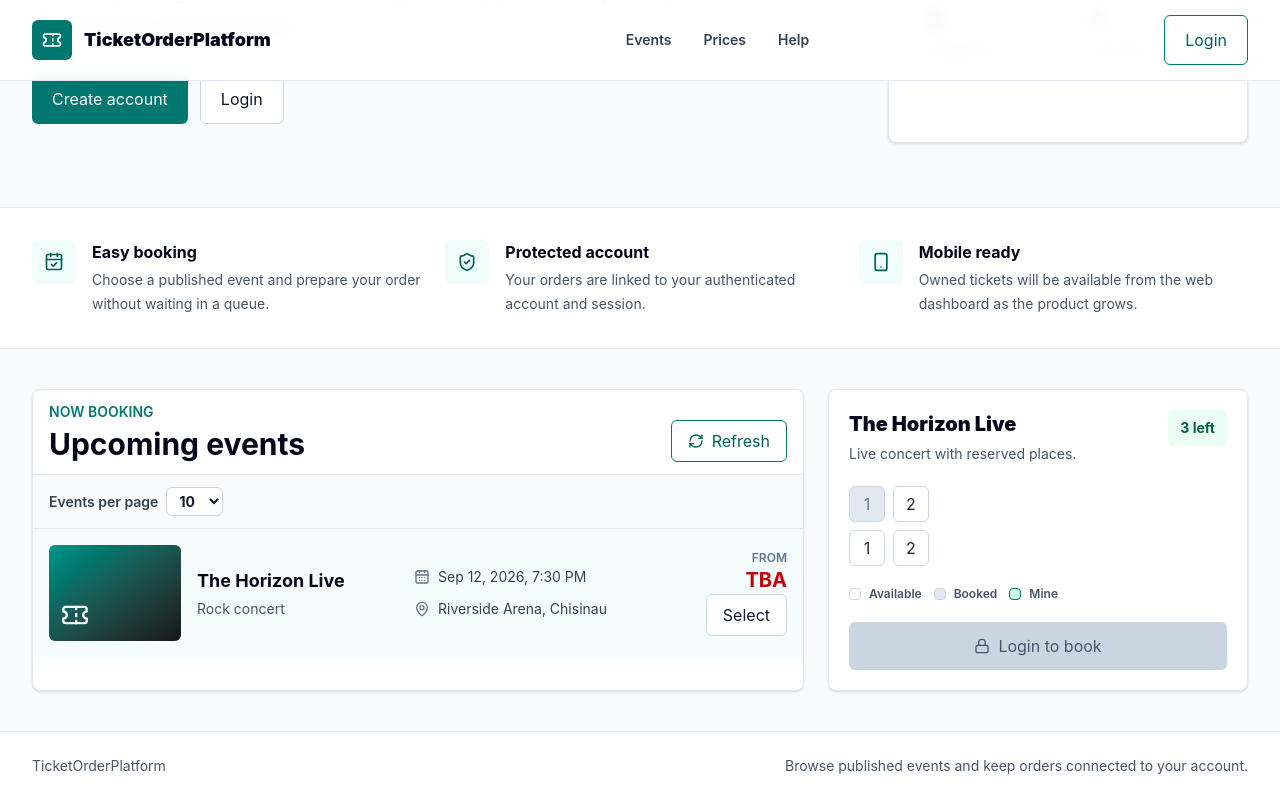
Scenario: App › opens login instead of booking for public users
This screenshot has width=1280, height=800.
(page scrolled)
Click the button named "Row 1, place 2" at (911,504), box [893,486,929,522]
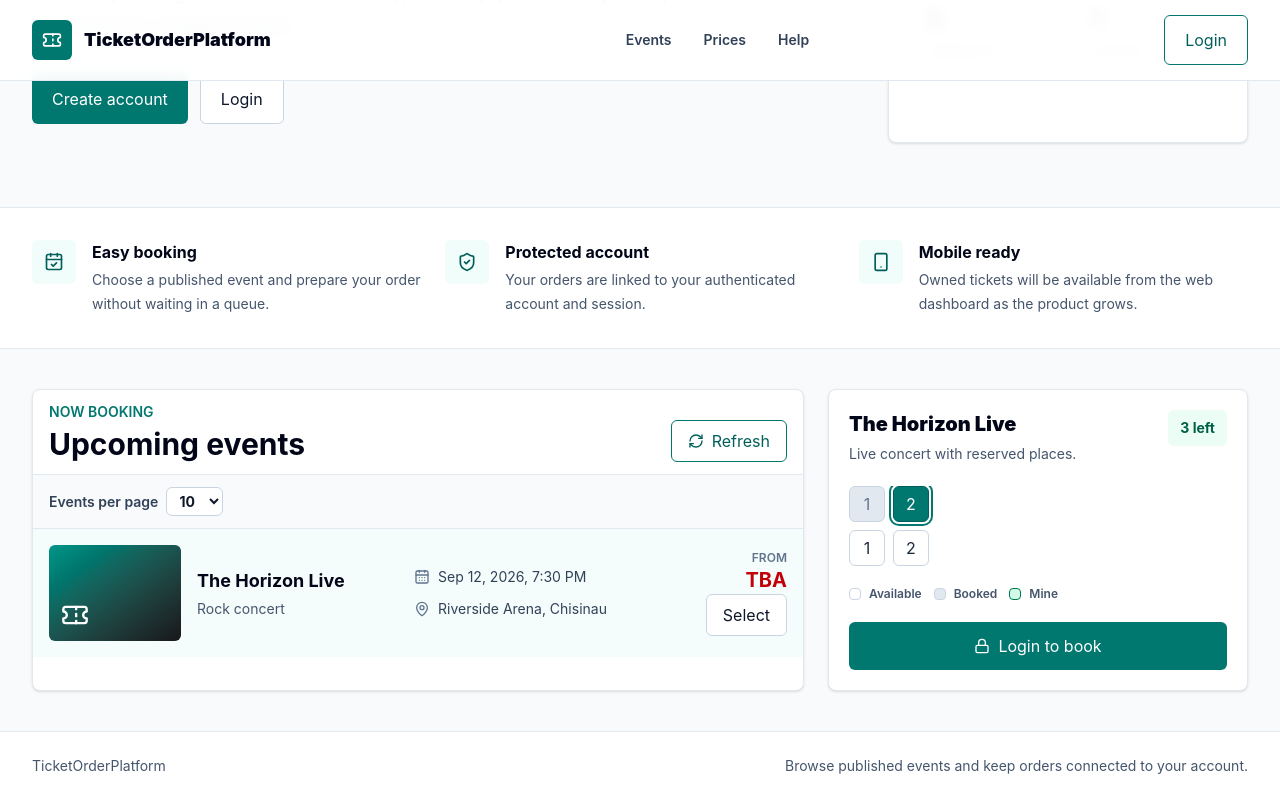
Click the button "Login to book" at (1038,646), box [849,622,1227,670]
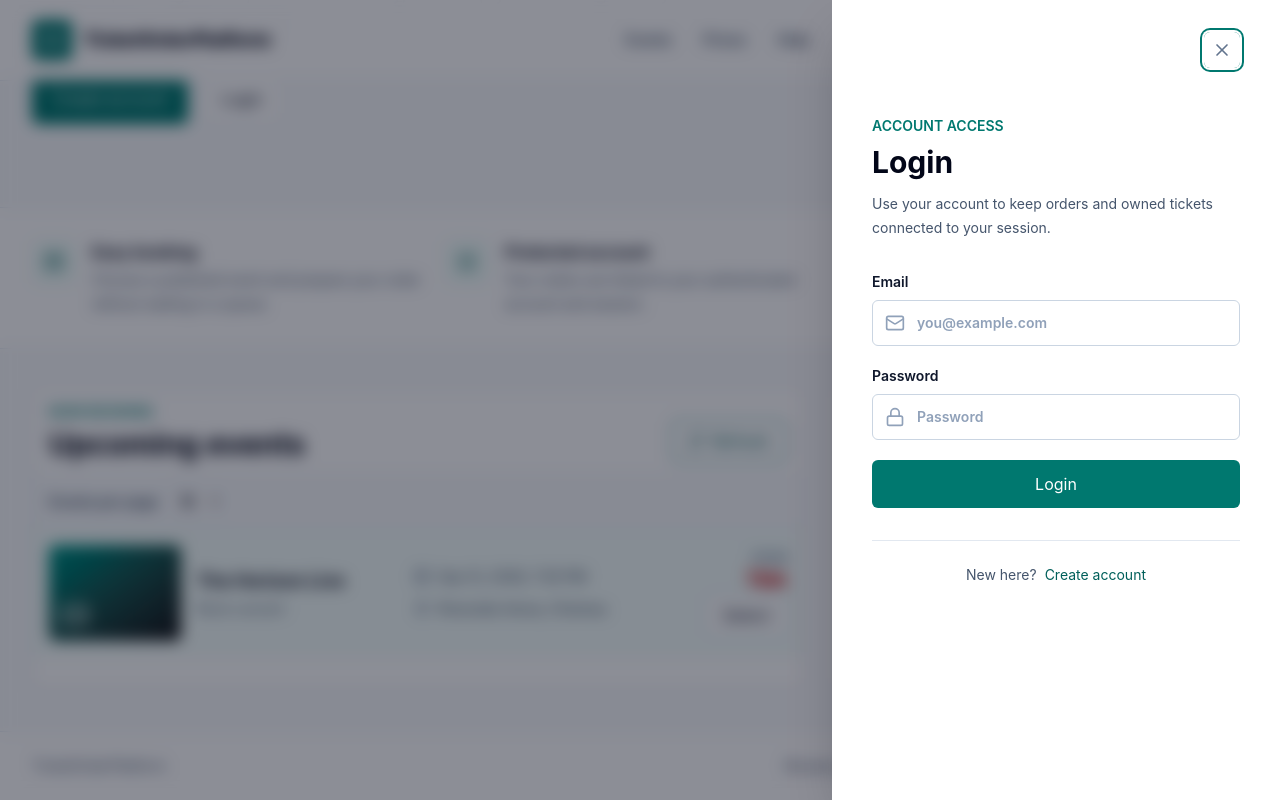
Check: the dialog "Login" is shown, box [832,0,1279,799]
